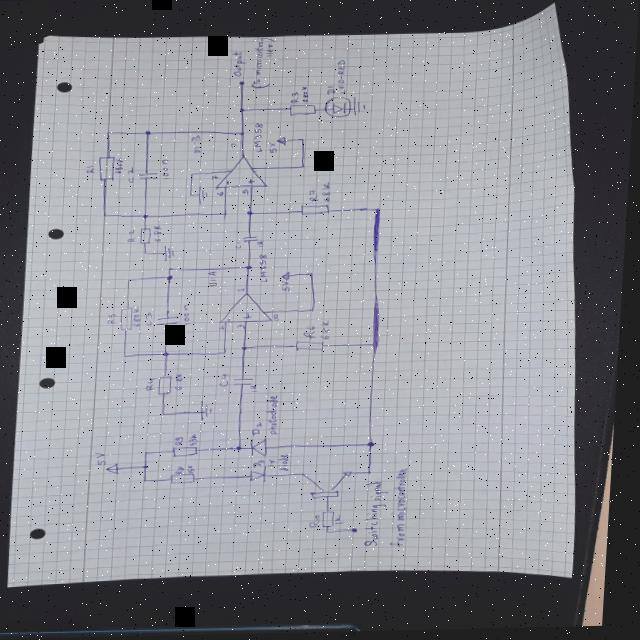capacitor: (159, 316, 185, 327), (236, 377, 259, 387), (139, 172, 162, 180), (244, 236, 262, 243)
diode: (324, 97, 353, 119), (253, 436, 275, 459), (254, 469, 273, 483)
ground: (204, 400, 221, 422), (353, 97, 368, 118), (166, 244, 180, 262), (200, 187, 212, 205)
junction: (243, 345, 254, 351), (143, 213, 151, 219), (240, 446, 248, 452), (248, 265, 256, 271), (239, 131, 247, 137), (375, 343, 383, 349), (169, 275, 176, 281), (165, 352, 173, 357), (147, 465, 155, 470), (301, 165, 309, 170), (165, 412, 172, 417), (190, 193, 197, 198), (240, 108, 247, 113), (149, 451, 155, 456), (104, 213, 110, 218), (107, 131, 113, 136), (376, 209, 383, 213), (224, 212, 231, 216), (145, 251, 152, 255), (373, 444, 379, 448), (147, 131, 153, 135), (372, 472, 378, 476), (301, 139, 307, 143), (311, 273, 317, 277), (126, 354, 132, 358), (313, 309, 319, 313), (129, 278, 135, 282), (148, 479, 154, 483), (190, 173, 196, 177), (331, 531, 337, 535), (170, 268, 176, 272), (250, 212, 256, 215), (225, 352, 229, 356)
resistor: (98, 155, 118, 182), (289, 104, 318, 119), (123, 307, 139, 331), (298, 341, 329, 353), (161, 376, 178, 396), (302, 206, 332, 217), (177, 447, 204, 458), (175, 475, 203, 484), (328, 511, 341, 529), (141, 228, 154, 244)
source: (111, 463, 125, 475), (277, 137, 290, 148), (284, 272, 294, 281)
terminal: (356, 528, 367, 534), (239, 82, 247, 86)
text: (368, 483, 397, 548), (396, 469, 416, 549), (250, 37, 277, 90), (270, 395, 285, 436), (230, 51, 249, 77), (336, 61, 348, 95), (254, 121, 266, 153), (261, 255, 274, 284), (190, 135, 205, 155), (161, 158, 174, 181), (323, 320, 337, 341), (283, 454, 297, 474), (323, 183, 335, 203), (135, 307, 146, 327), (99, 452, 114, 466), (307, 326, 322, 340), (185, 306, 196, 325), (301, 86, 312, 104), (155, 225, 166, 243), (315, 515, 328, 530), (179, 372, 189, 391), (211, 270, 222, 287), (257, 422, 270, 436), (150, 377, 162, 392), (128, 166, 138, 184), (147, 311, 158, 327), (115, 158, 126, 174), (192, 434, 204, 448), (223, 374, 235, 388), (109, 313, 122, 325), (178, 436, 191, 448), (269, 142, 280, 155), (310, 191, 321, 203), (130, 229, 140, 242), (340, 515, 351, 526), (291, 92, 301, 104), (284, 281, 294, 293), (258, 460, 271, 469), (326, 86, 337, 96), (180, 466, 191, 475), (272, 459, 282, 468), (87, 165, 98, 173), (213, 174, 224, 182), (253, 385, 264, 393), (192, 465, 201, 474), (276, 314, 285, 322), (237, 242, 246, 250), (230, 142, 240, 149), (259, 241, 268, 248), (245, 314, 255, 320), (243, 189, 251, 196), (218, 191, 226, 198), (241, 324, 249, 331), (250, 178, 258, 185), (240, 287, 249, 293), (229, 317, 237, 323), (222, 326, 229, 330), (225, 181, 231, 185)
transistor: (306, 471, 359, 502)
